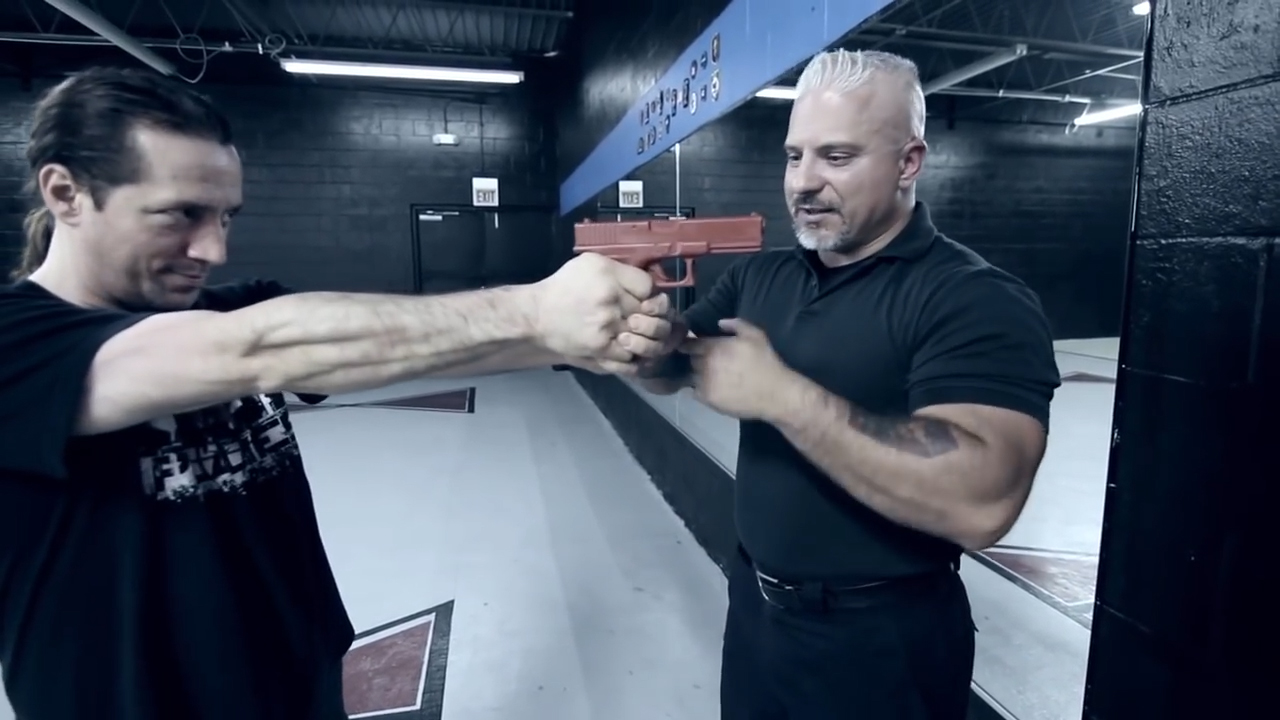pistol: (568, 210, 769, 292)
